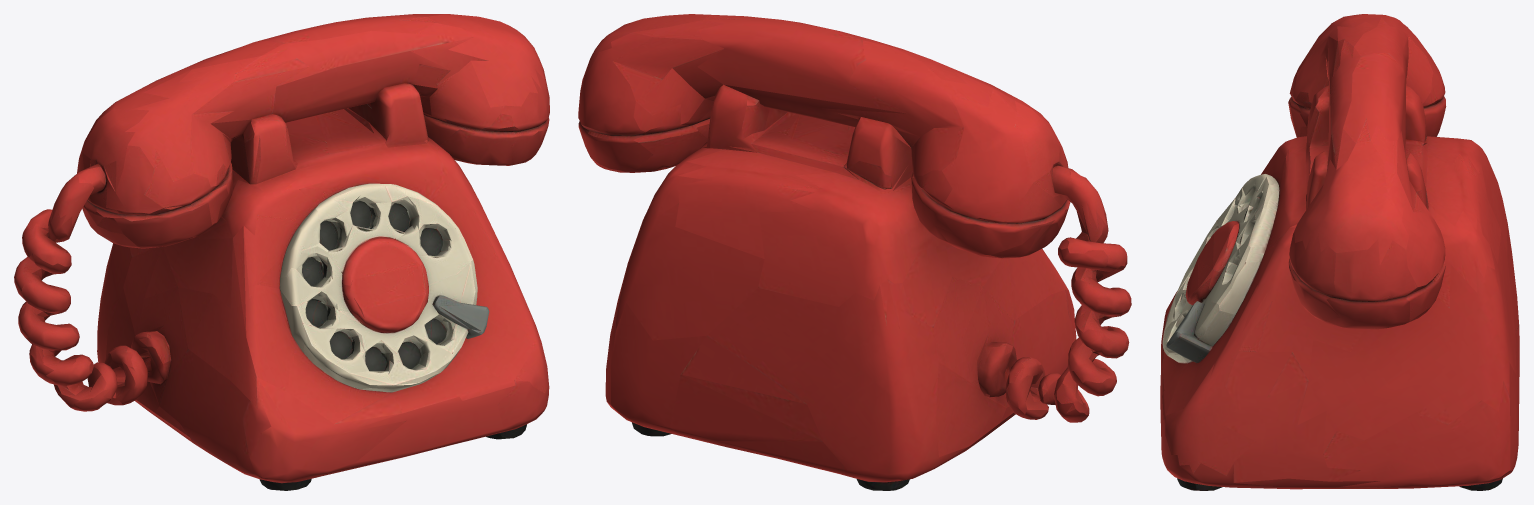
Rendered from phone_red.glb.
3 views of the same model, side by side, from view 1: azimuth 30°, elevation 25°; view 2: azimuth 150°, elevation 25°; view 3: azimuth 270°, elevation 25° (orthographic). The views are drawn at different scales.
Visible parts, largest first — view 1: mesh_node; view 2: mesh_node; view 3: mesh_node.
Part boxes in pixels (left/top/right/bottom): mesh_node: left=14, top=14, right=549, bottom=490; mesh_node: left=578, top=14, right=1131, bottom=490; mesh_node: left=1160, top=14, right=1519, bottom=490.
Bounding box in the file's own units: 0.12 × 0.0803 × 0.0727.
Materials: 1 (1 with a texture image).
